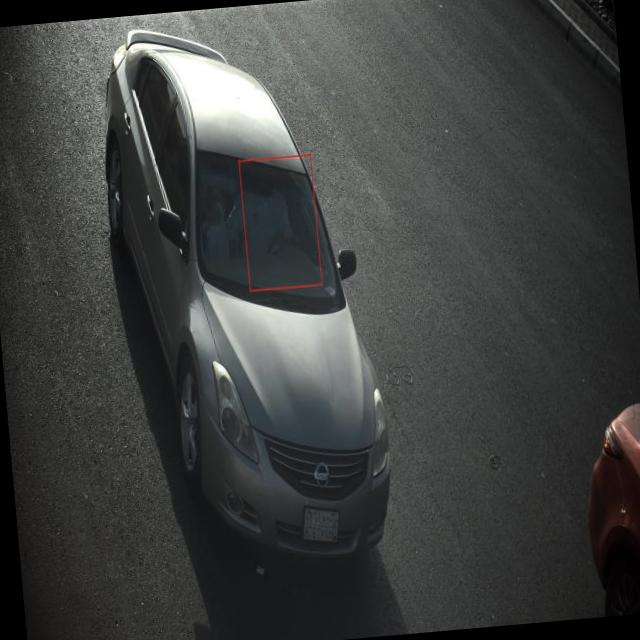person_without_seatbelt: (238, 162, 316, 284)
